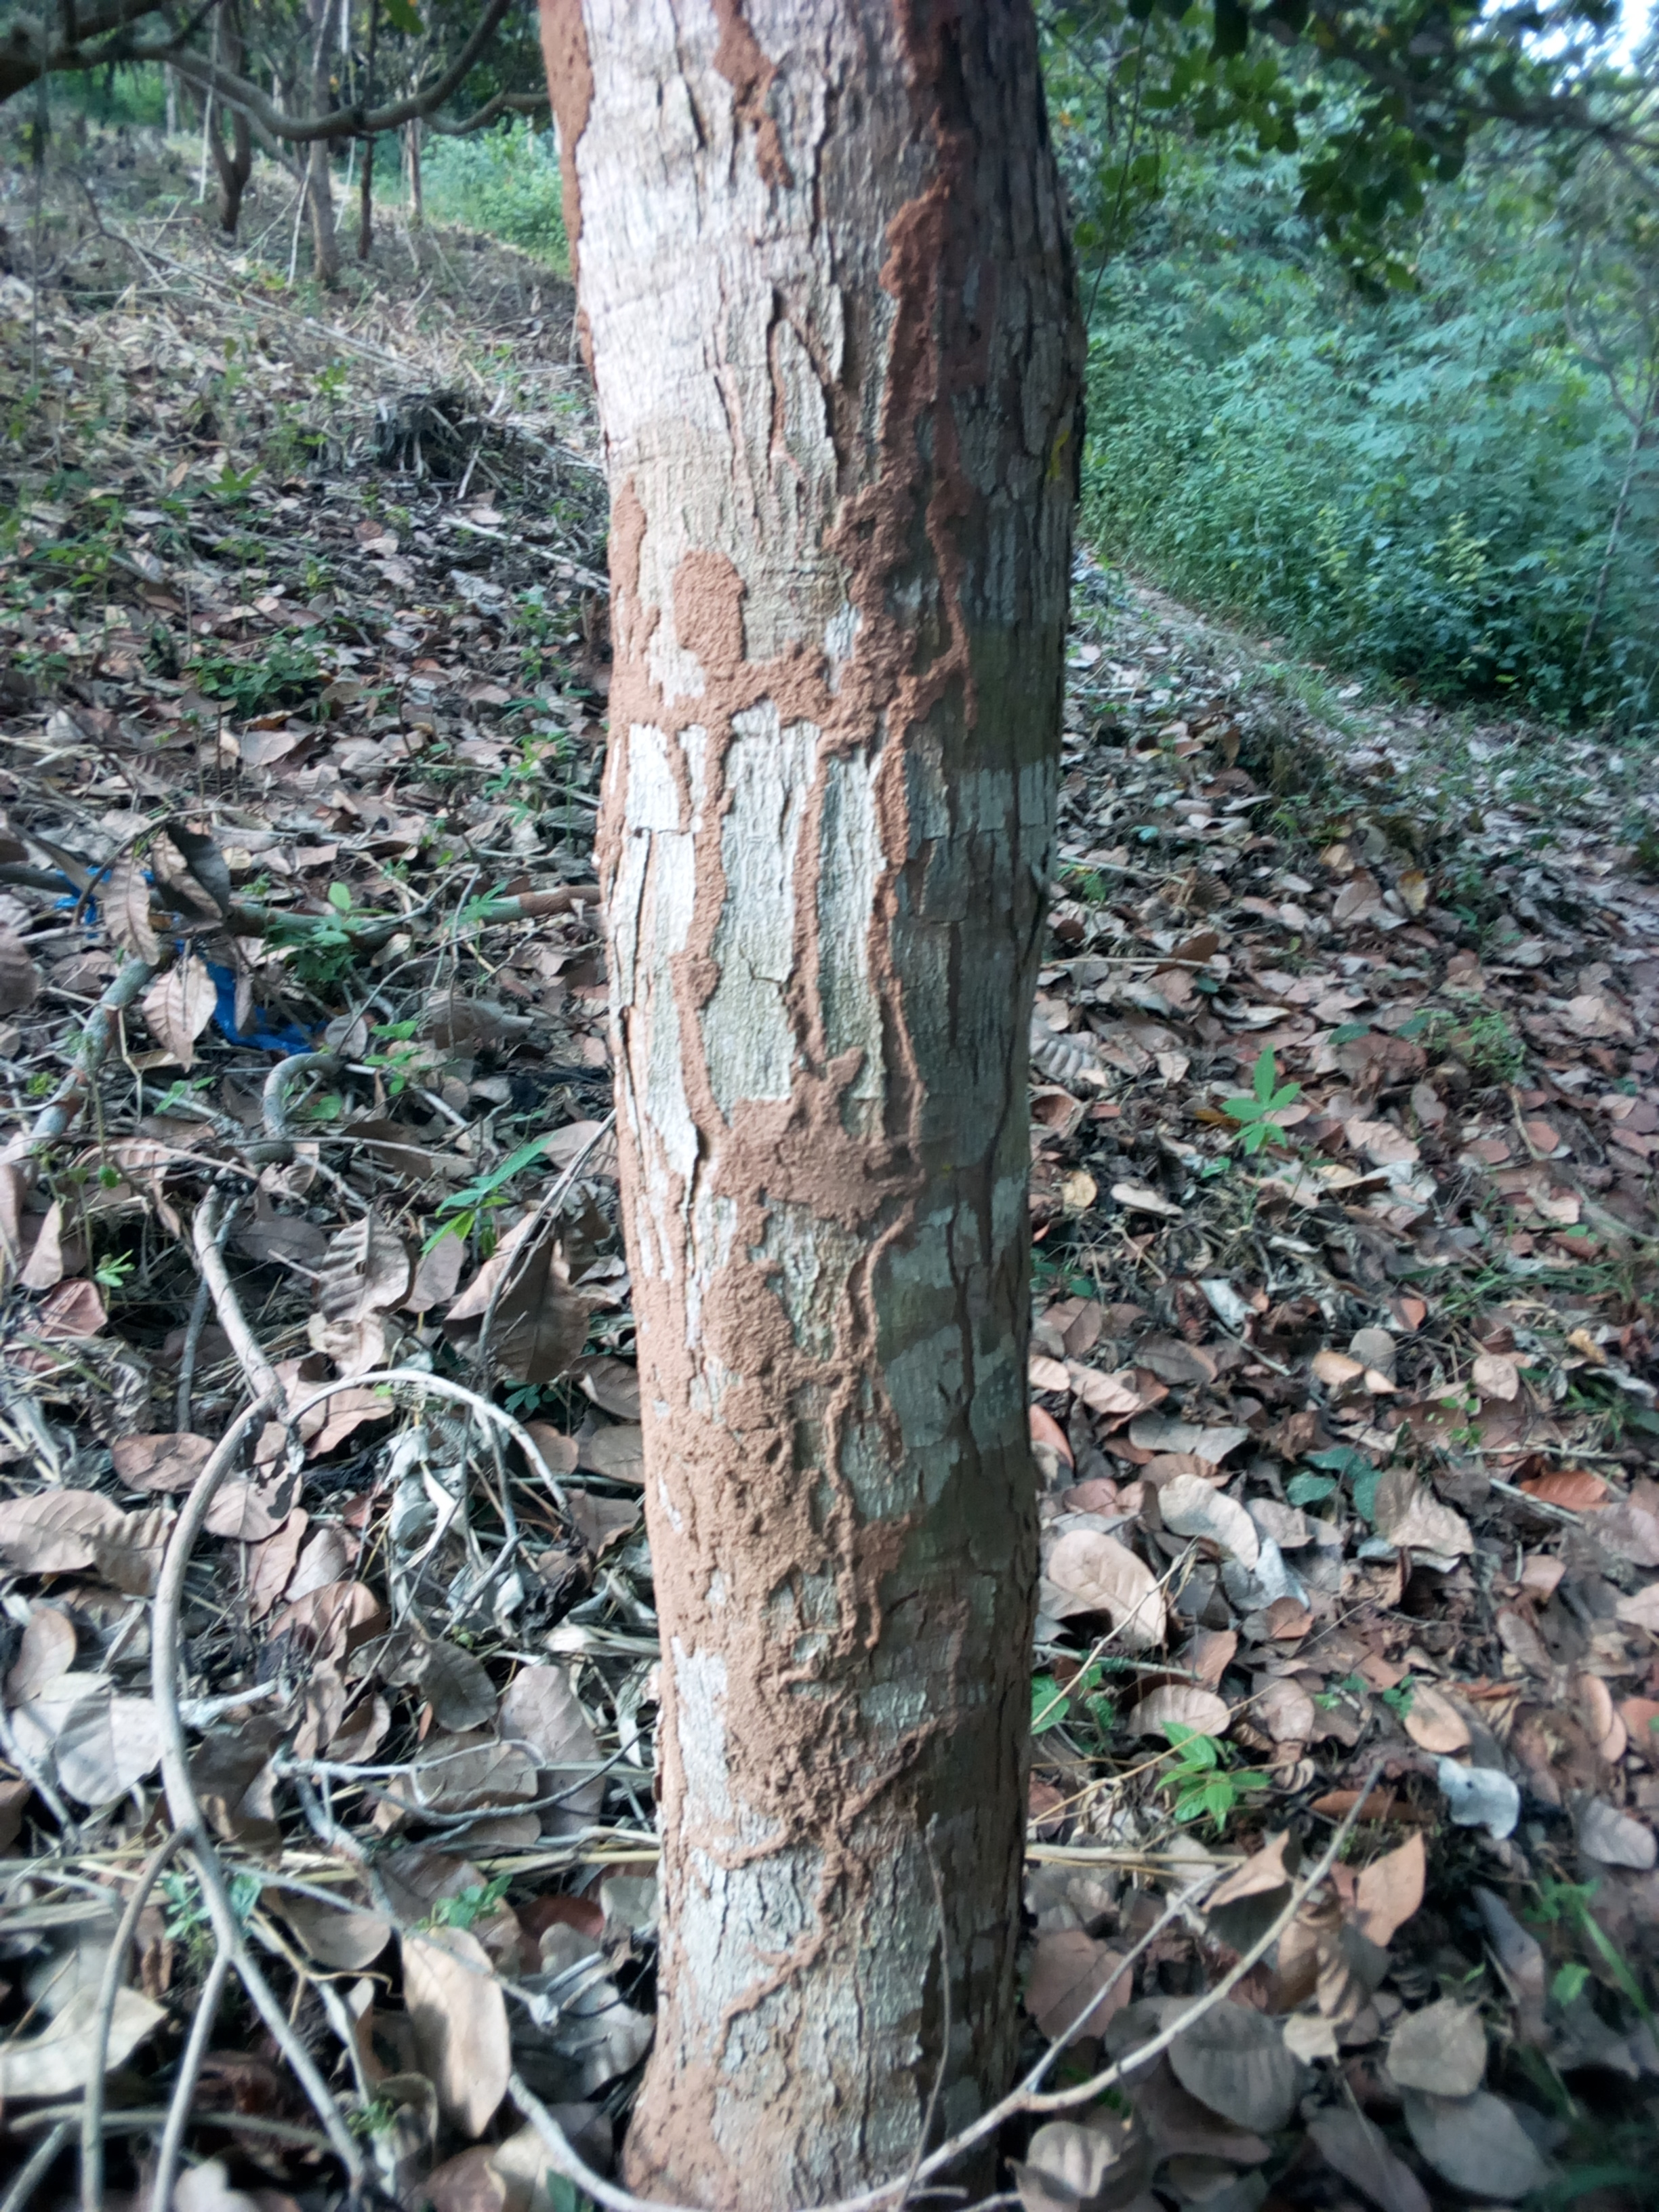Termites: (629, 587, 1002, 2184), (565, 2, 1026, 564)
